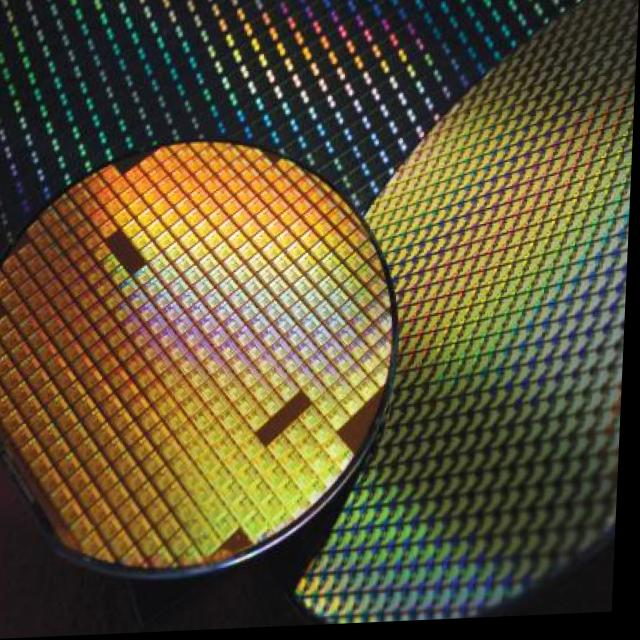Wafer: (0, 141, 399, 591)
